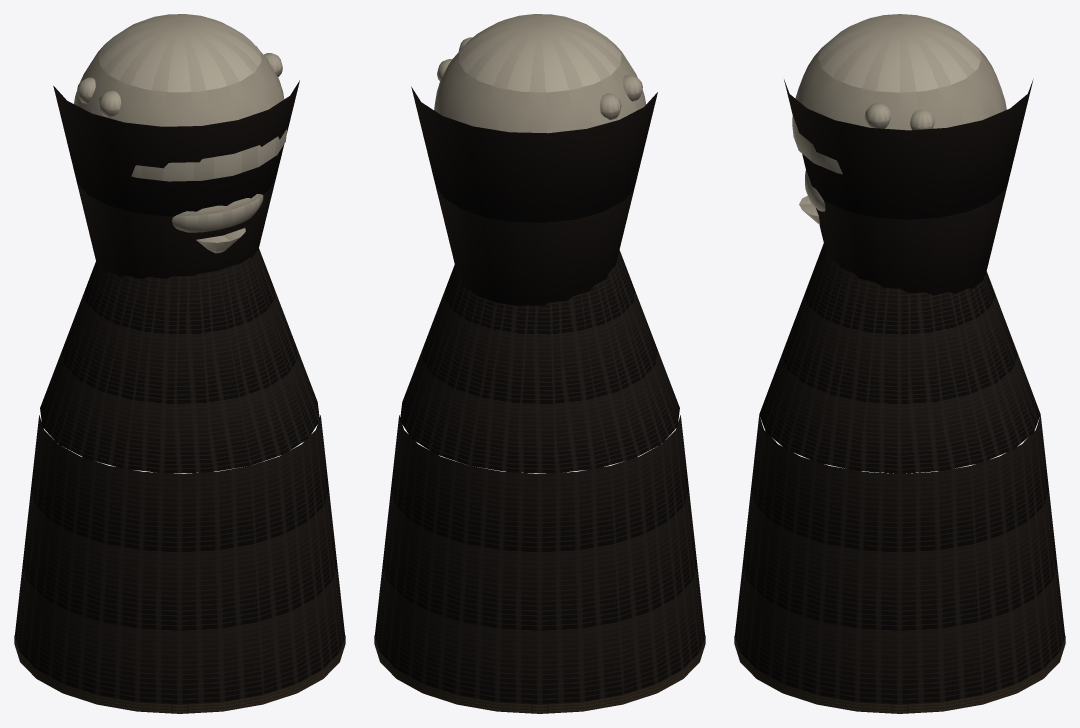
File: judas.glb
3 renders of one model, left to right at view 1: azimuth 30°, elevation 25°; view 2: azimuth 150°, elevation 25°; view 3: azimuth 270°, elevation 25°, orthographic.
Visible parts, largest first — view 1: Character_judas_iscariot; view 2: Character_judas_iscariot; view 3: Character_judas_iscariot.
Boxes of the visible parts, x1,y1,x2,y2 form: Character_judas_iscariot: [14, 14, 345, 713]; Character_judas_iscariot: [374, 14, 705, 713]; Character_judas_iscariot: [734, 14, 1065, 713].
Bounding box in the file's own units: 0.8712 × 1.8 × 0.8712.
Materials: 10 (6 with a texture image).
